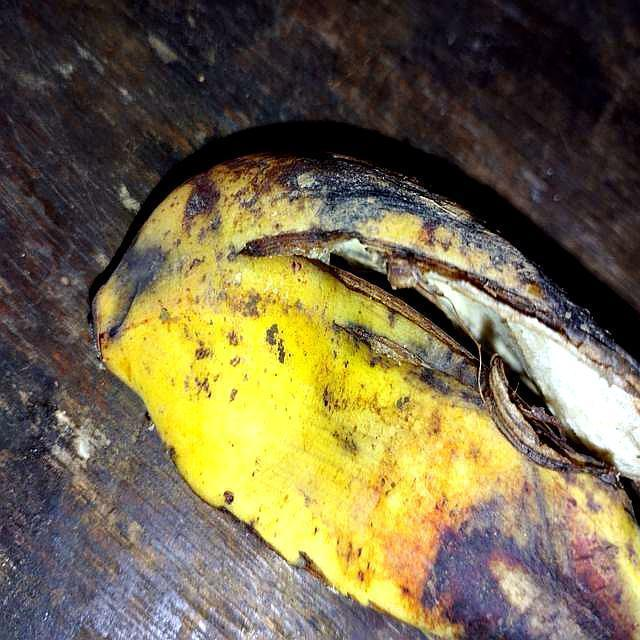Biodegradable: (93, 155, 640, 640)
